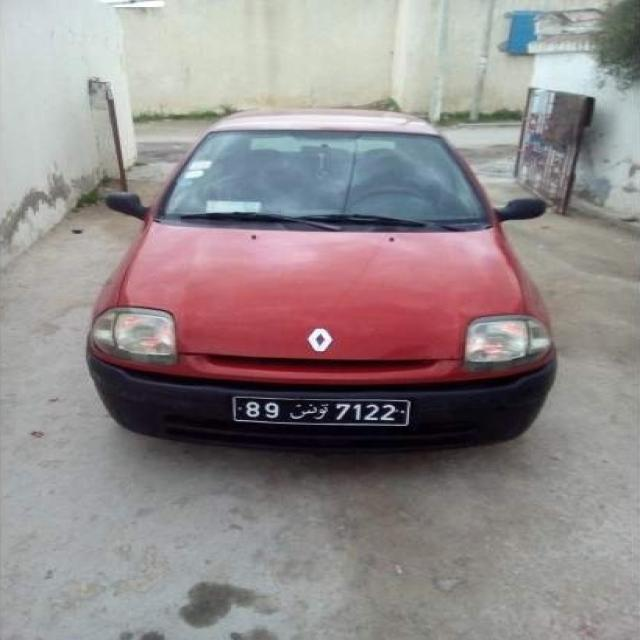licence plate: (236, 398, 409, 424)
